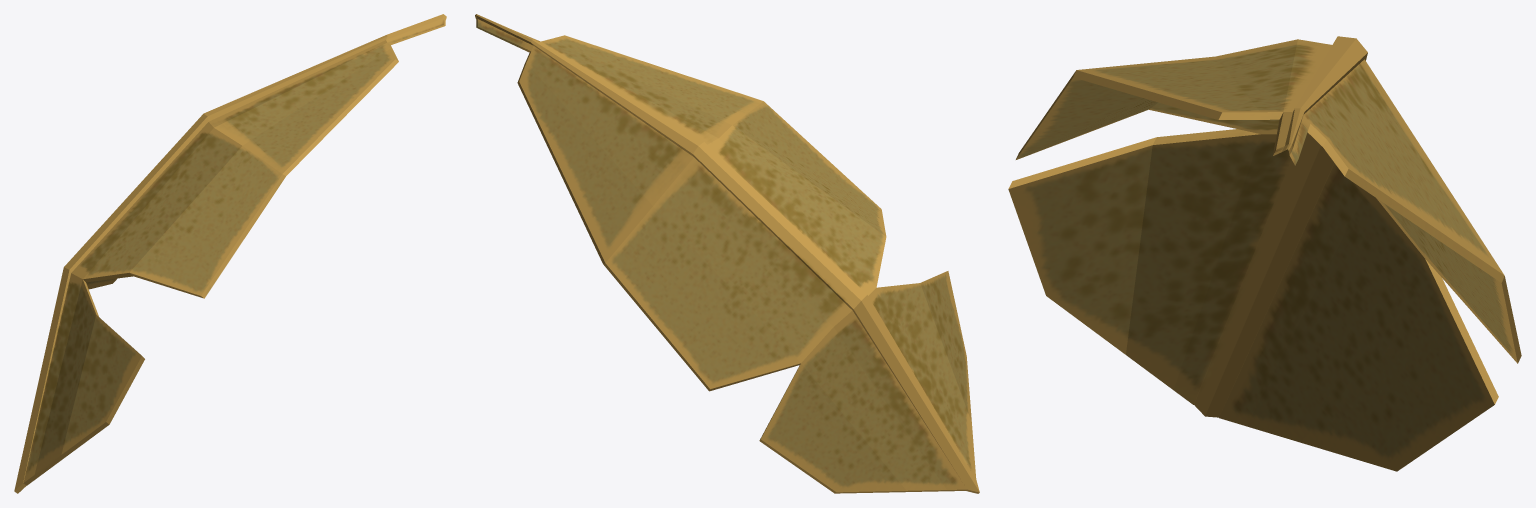
File: Dead_Leaf_01.fbx
3 renders of one model, left to right at view 1: azimuth 30°, elevation 25°; view 2: azimuth 150°, elevation 25°; view 3: azimuth 270°, elevation 25°, orthographic. The views are drawn at different scales.
Visible parts, largest first — view 1: Dead_Leaf_01; view 2: Dead_Leaf_01; view 3: Dead_Leaf_01.
Part boxes in pixels (x1,y1,x2,y2): Dead_Leaf_01: (14, 14, 446, 493); Dead_Leaf_01: (475, 14, 979, 493); Dead_Leaf_01: (1008, 36, 1521, 471).
Size of the model in its own units: 232 by 174 by 114.
